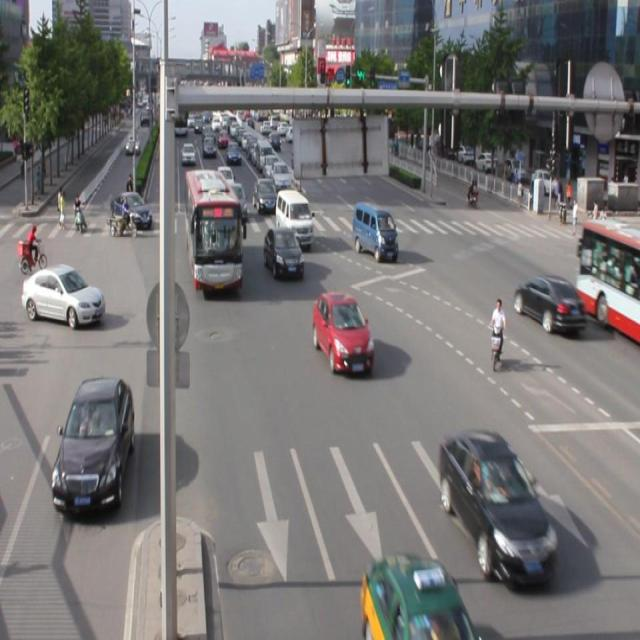car: (438, 428, 557, 581), (51, 374, 134, 514), (361, 550, 478, 640), (312, 288, 374, 375), (511, 272, 583, 334), (264, 226, 303, 278)
truck: (351, 201, 398, 262), (275, 189, 312, 248)
van: (575, 220, 640, 342), (185, 169, 242, 291)
